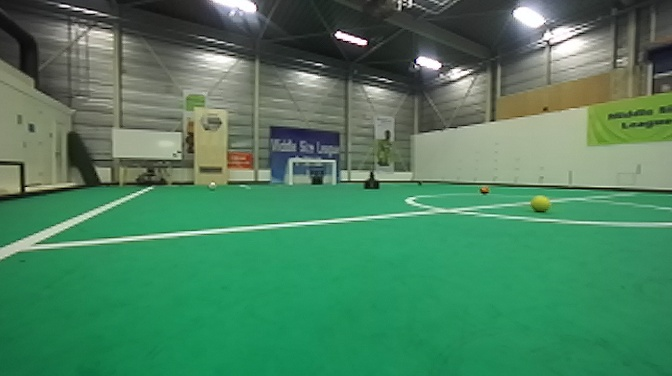ball: (528, 193, 551, 216), (478, 185, 490, 196), (207, 180, 218, 191)
goal: (283, 155, 338, 186)
robot: (360, 166, 382, 191), (306, 165, 326, 186)
